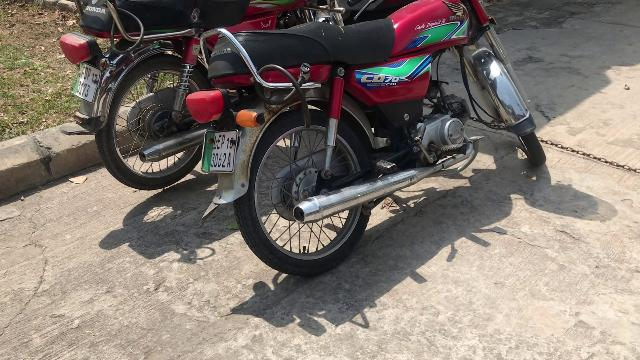plate: (198, 128, 240, 170)
